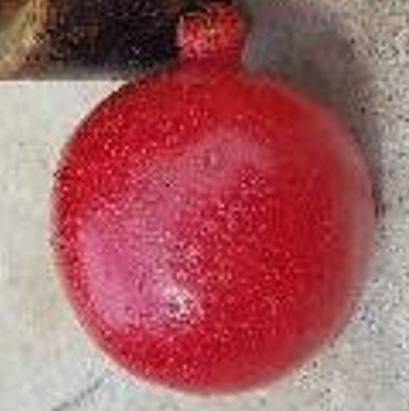pomegranate_A: (51, 2, 378, 396)
